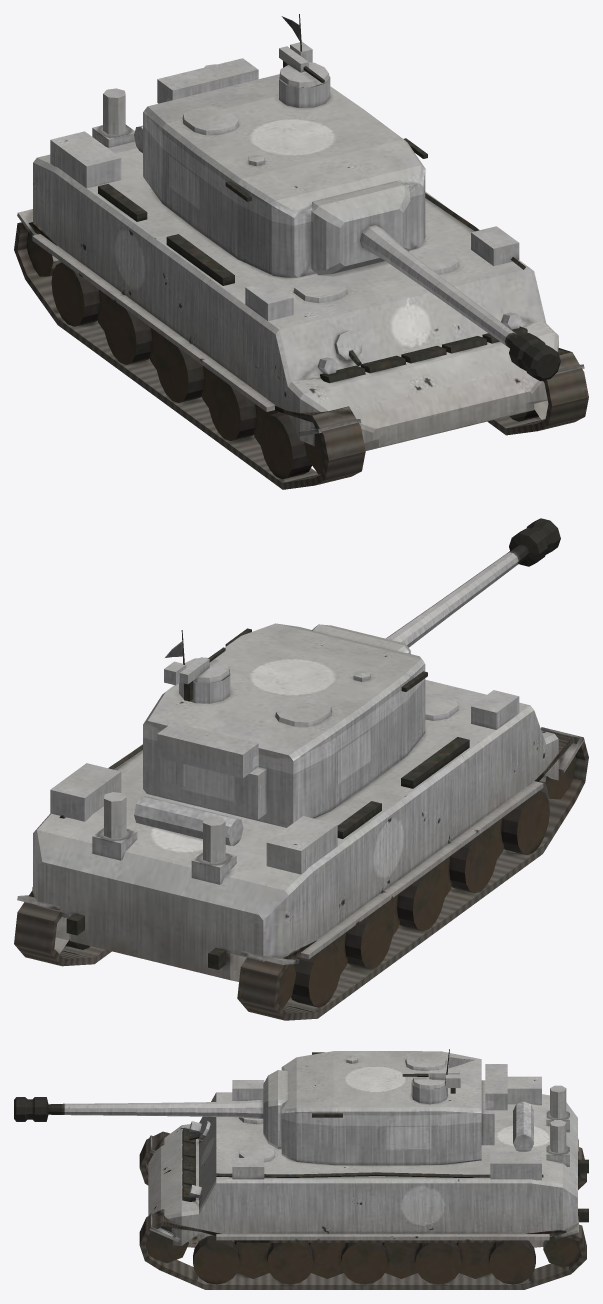
Rendered from heavytank.glb.
The picture shows the model from 3 angles, top to bottom: view 1: azimuth 30°, elevation 25°; view 2: azimuth 150°, elevation 25°; view 3: azimuth 270°, elevation 25°; orthographic projection. The views are drawn at different scales.
Parts seen in each view (by area): view 1: heavytank_LOD0; view 2: heavytank_LOD0; view 3: heavytank_LOD0.
Part boxes in pixels (<box>): heavytank_LOD0: <box>14,14,588,489</box>; heavytank_LOD0: <box>14,518,588,1020</box>; heavytank_LOD0: <box>14,1049,588,1289</box>.
Size of what is drawn, in the model's own units: 3.68 by 3.86 by 9.32.
1 material, 1 textured.
